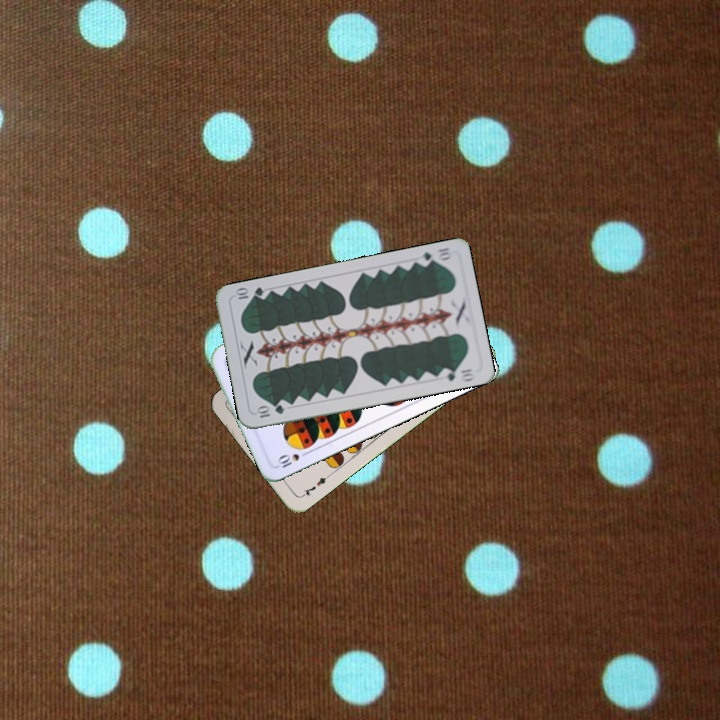E7: (297, 471, 332, 500)
G10: (413, 243, 454, 269), (252, 401, 287, 420)
S10: (273, 447, 312, 472)
